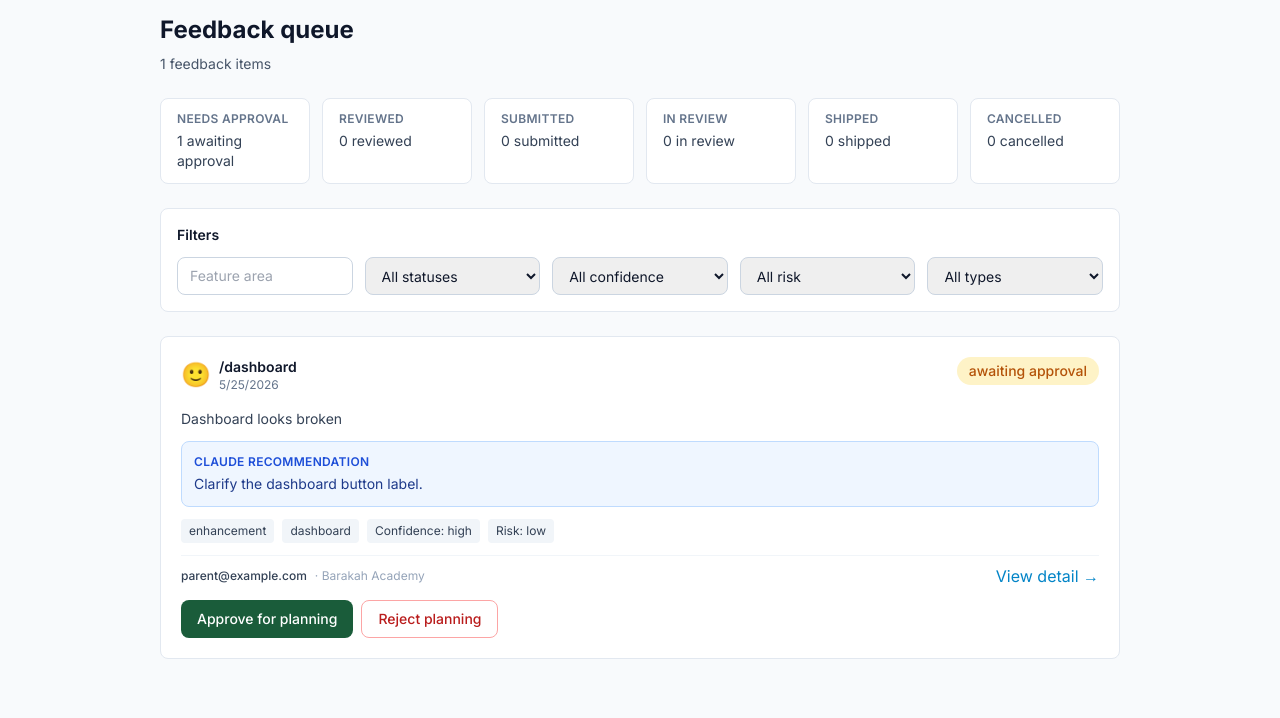
AdminFeedbackPage › approval flow › renders InlineConfirm inline within the row when approve clicked
Click the button with test id "approve-button-fb_1" at (267, 619), box x1=181 y1=600 x2=354 y2=638
(page scrolled)
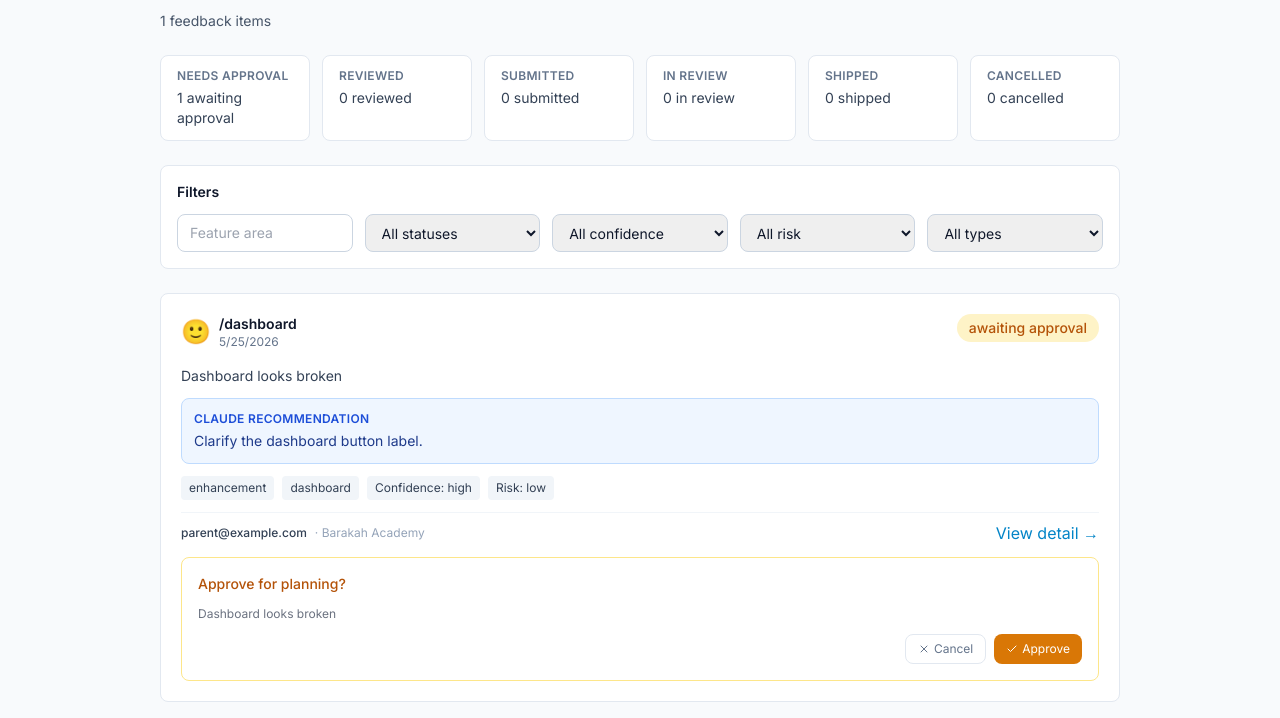
Result: the element "Approve for planning?" is shown at x1=181 y1=557 x2=1099 y2=681
